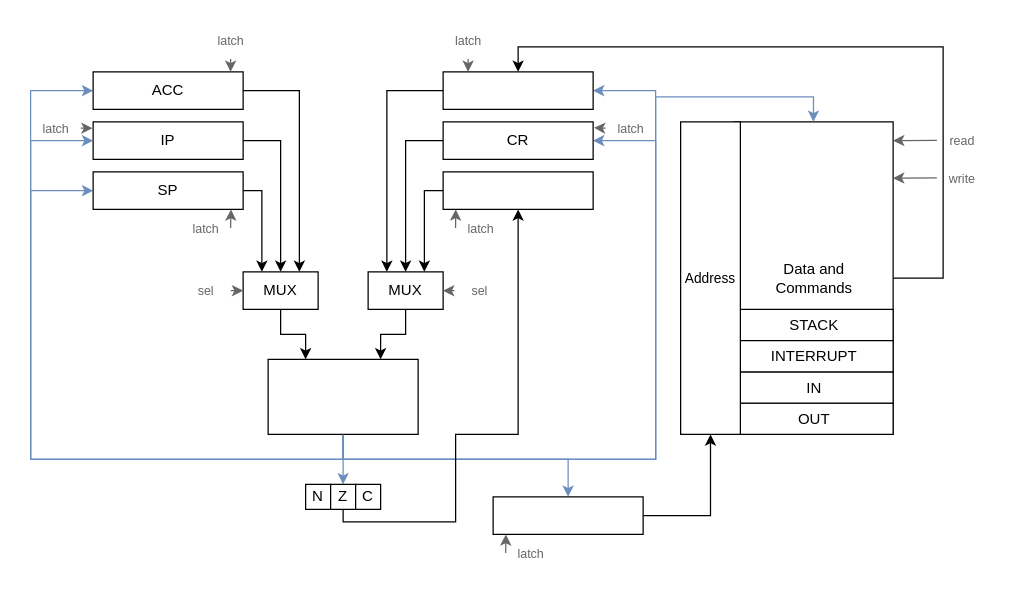
Some shapes in this 1015 by 593 pixel diagram are drawn without their labels. The shapes that lost their labels are listed below. From the top down, each one's centre as x and y in pixels, then its label:
the point at 517,90: DR
the point at 517,190: PS
the point at 342,396: ALU
the point at 567,515: AR
